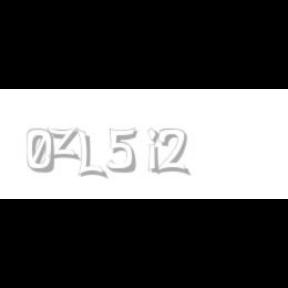0: (26, 128, 58, 174)
2: (155, 128, 189, 176)
5: (106, 128, 138, 174)
L: (77, 128, 105, 180)
i: (147, 128, 163, 176)
z: (46, 128, 82, 160)
